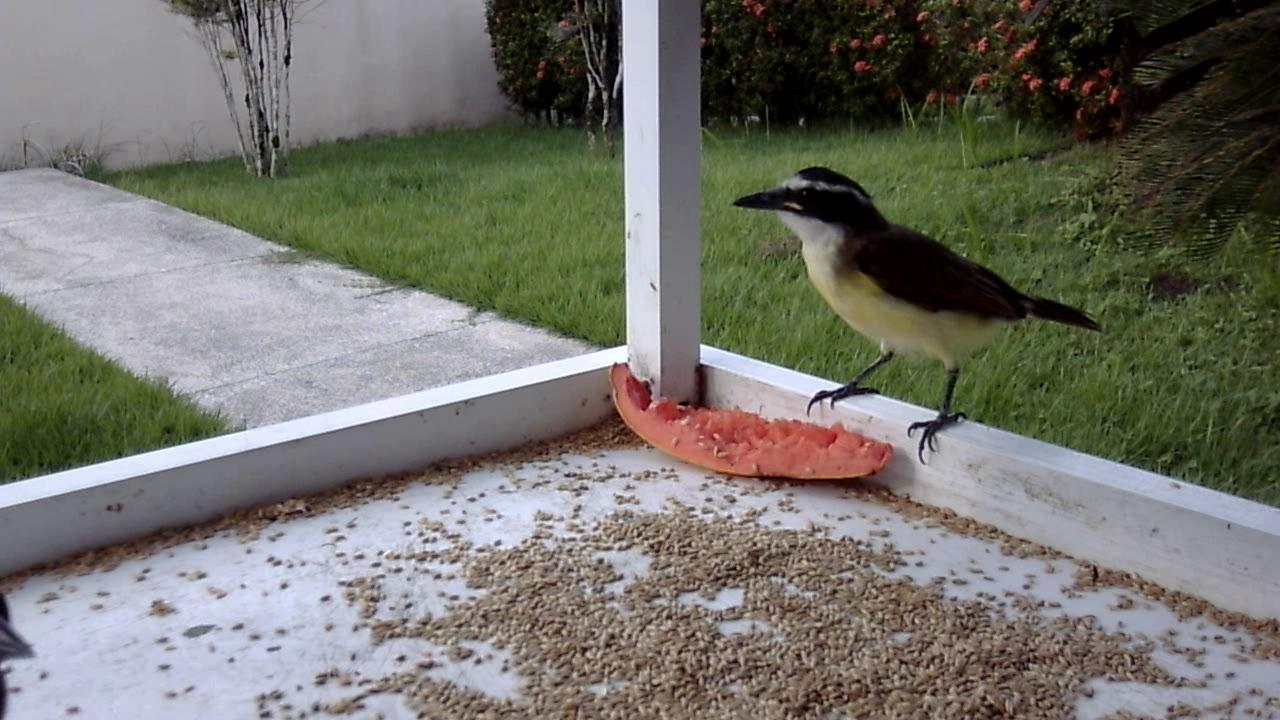bem_te_vi: (717, 155, 1108, 478)
